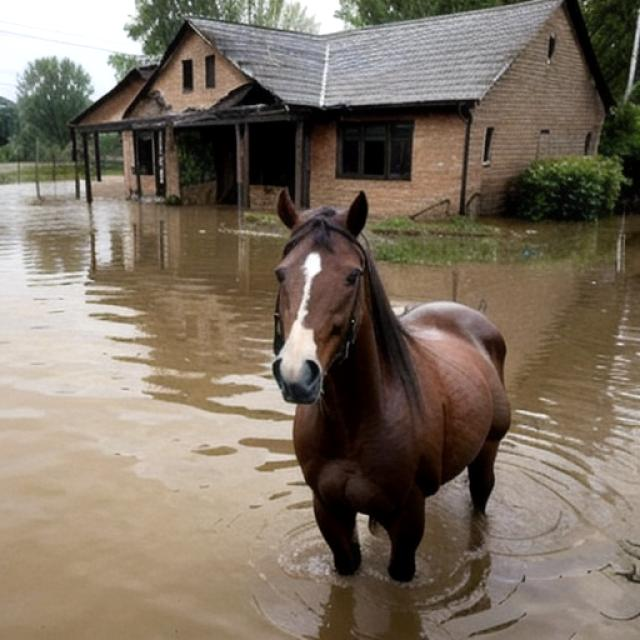horse: (248, 181, 522, 603)
